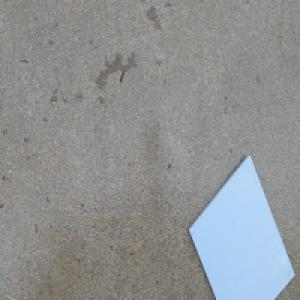PaintChip: (187, 153, 295, 300)
